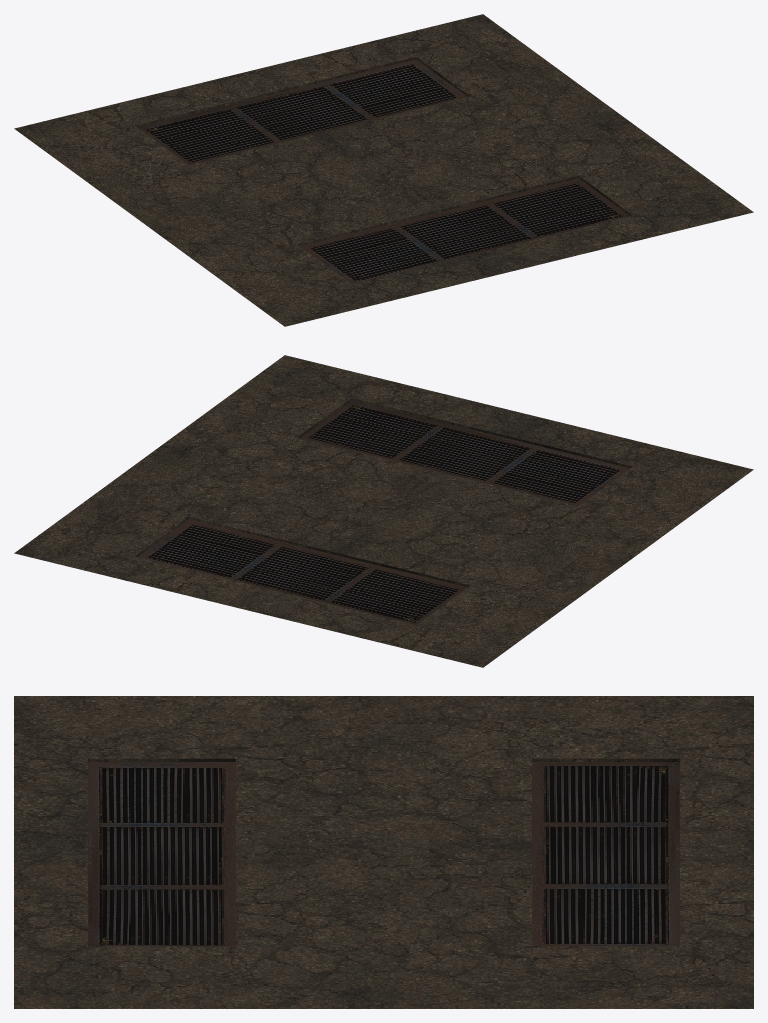
The model's file is asphalt_hr_3.glb.
The picture shows the model from 3 angles, top to bottom: view 1: azimuth 30°, elevation 25°; view 2: azimuth 150°, elevation 25°; view 3: azimuth 270°, elevation 25°; orthographic projection. The views are drawn at different scales.
Visible parts, largest first — view 1: asphalt_hr_3; view 2: asphalt_hr_3; view 3: asphalt_hr_3.
Boxes of the visible parts, bbox=[...] form: asphalt_hr_3: bbox=[14, 14, 753, 326]; asphalt_hr_3: bbox=[14, 355, 753, 667]; asphalt_hr_3: bbox=[14, 696, 753, 1008].
Size of the model in its own units: 4 by 0.02 by 4.
2 materials, 2 textured.
